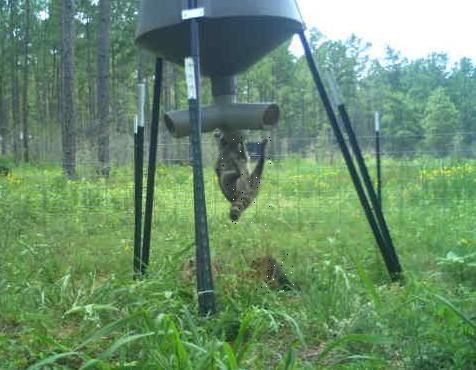Raccoon: (213, 133, 273, 227), (251, 253, 294, 296)
